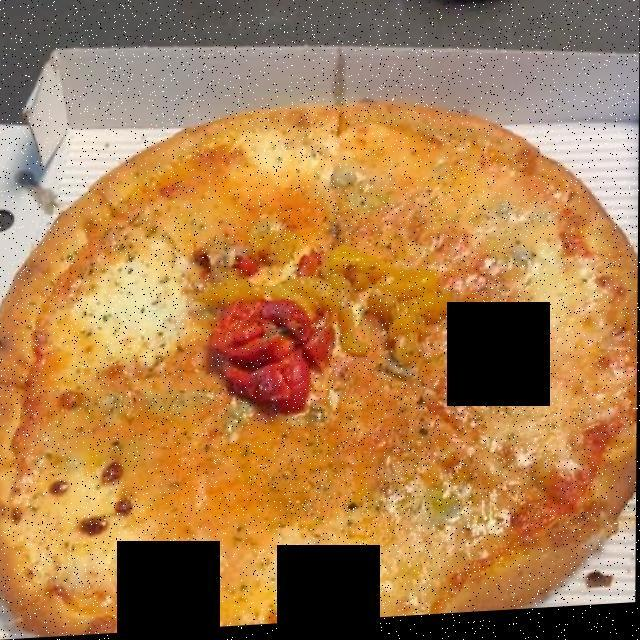pizza: (12, 114, 633, 625)
